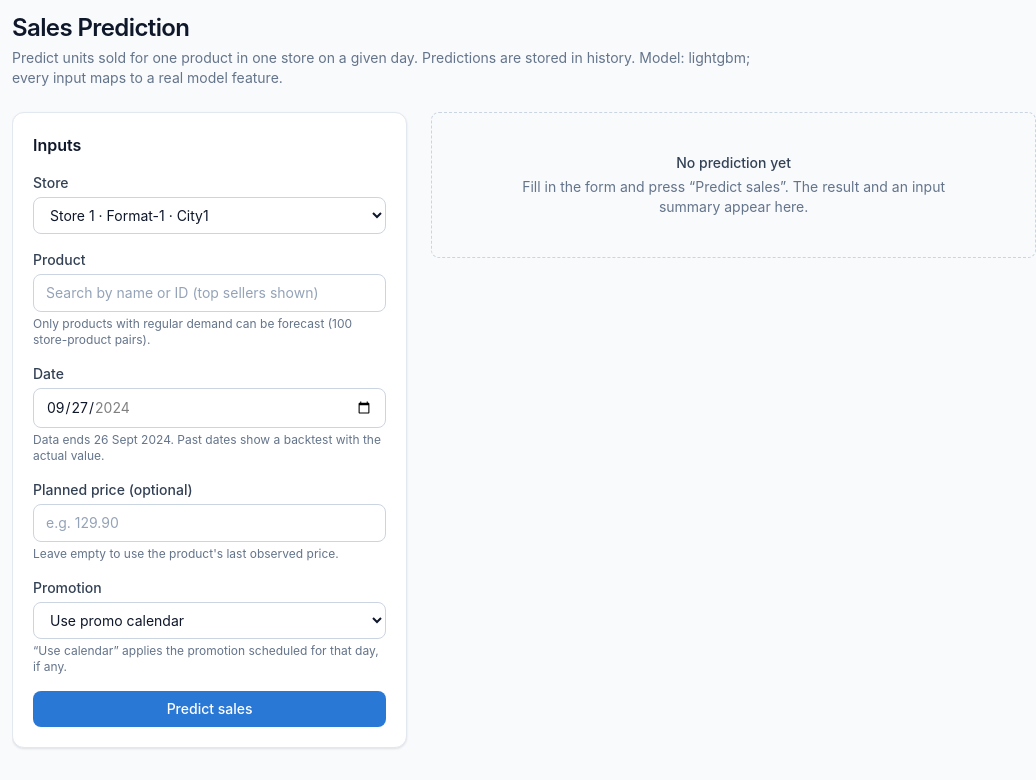
Scenario: Predict page › surfaces API errors to the user
Click the dropdown with placeholder "Search by name or ID (top sellers shown)" at (210, 293), box [33,274,386,312]
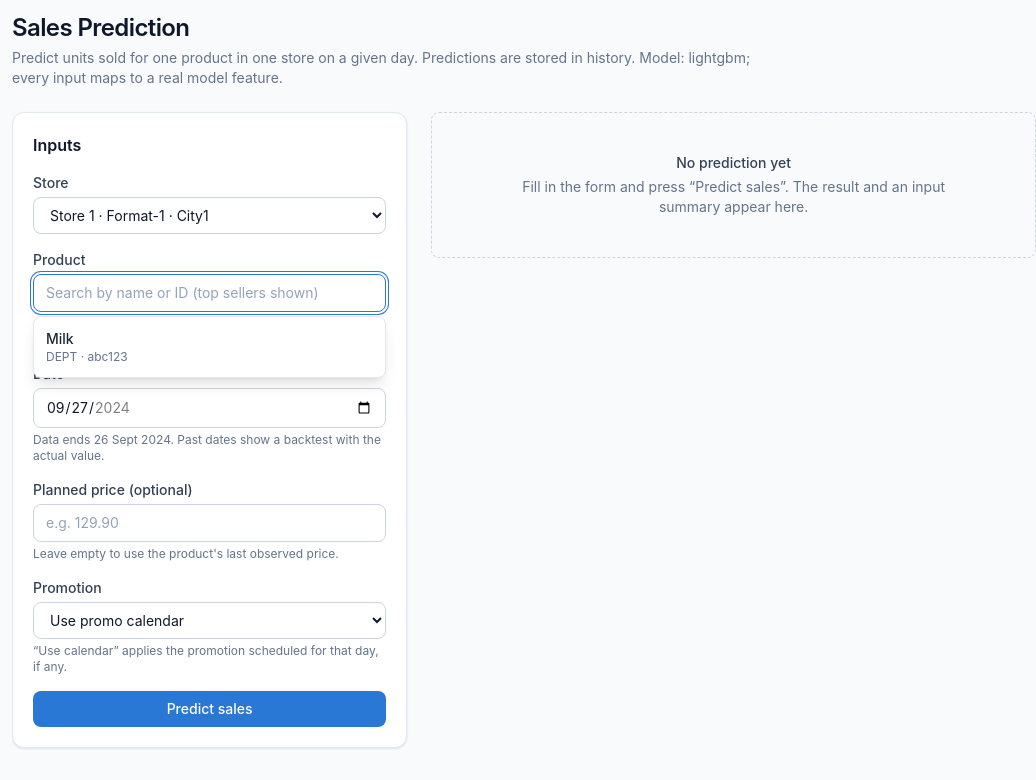
Press the mouse on the option "Milk DEPT · abc123" at (87, 347), box [46,330,128,364]
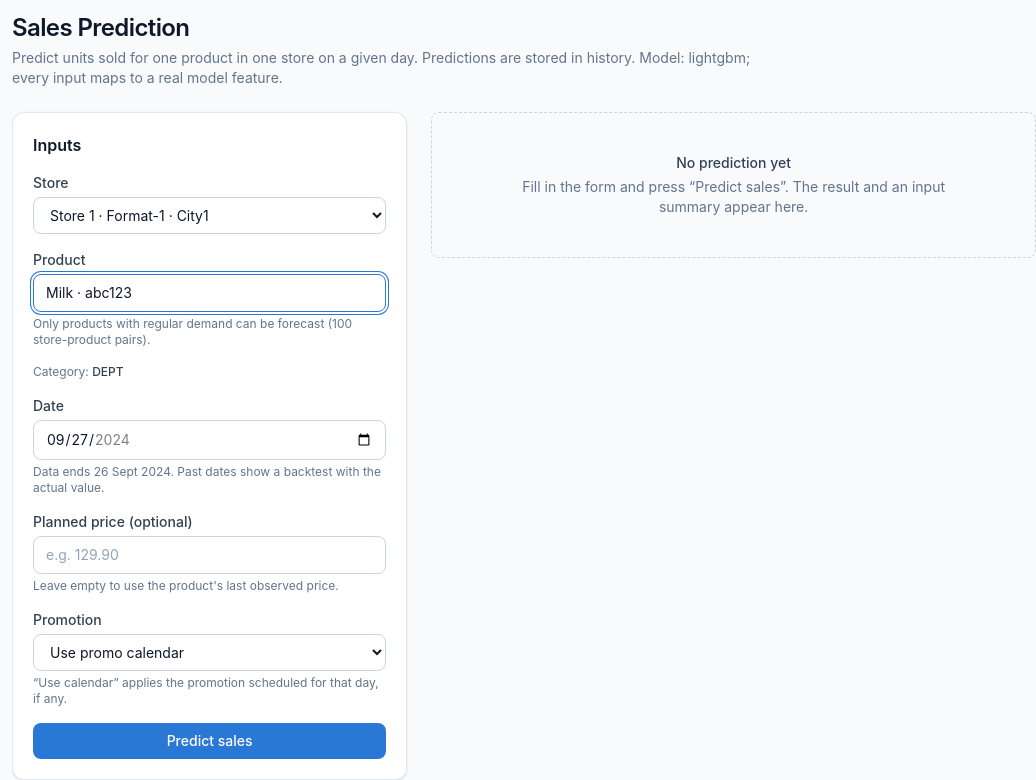
Click the button "Predict sales" at (210, 741), box [33,723,386,759]
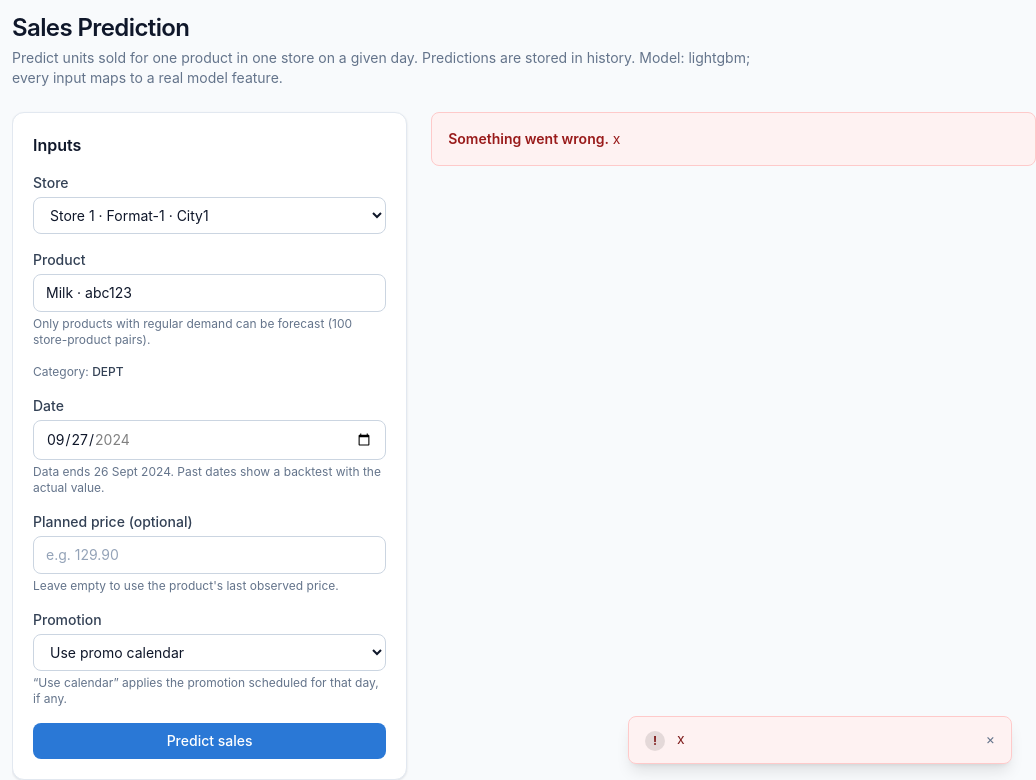
Check: the message "Something went wrong. x" is shown, box [431,112,1035,166]
